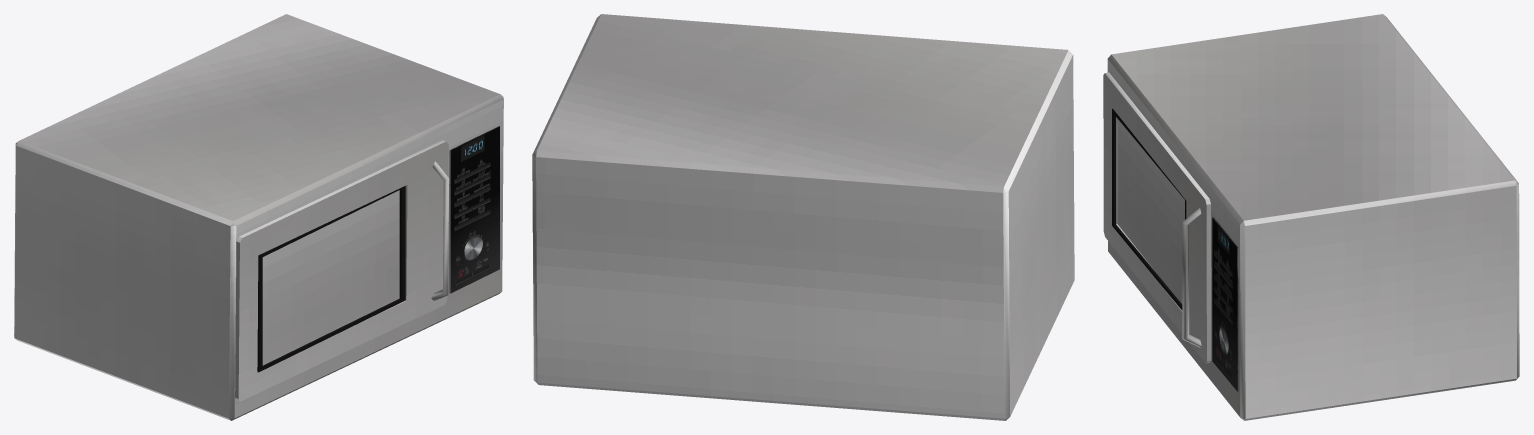
The model's file is Microondas.obj.
3 renders of one model, left to right at view 1: azimuth 30°, elevation 25°; view 2: azimuth 150°, elevation 25°; view 3: azimuth 270°, elevation 25°, orthographic. The views are drawn at different scales.
Parts seen in each view (by area): view 1: initialShadingGroupMesh7, pCube132, initialShadingGroup polySurface102; view 2: initialShadingGroupMesh7; view 3: initialShadingGroupMesh7, pCube132, initialShadingGroup polySurface102.
Boxes of the visible parts, x1,y1,x2,y2 form: initialShadingGroupMesh7: (14, 14, 503, 420); pCube132: (450, 126, 499, 293); initialShadingGroup polySurface102: (257, 186, 405, 372); initialShadingGroupMesh7: (532, 14, 1074, 420); initialShadingGroupMesh7: (1103, 14, 1519, 420); pCube132: (1212, 217, 1237, 390); initialShadingGroup polySurface102: (1112, 108, 1186, 310).
Bounding box in the file's own units: 0.807 × 0.3722 × 0.6858.
3 materials, 3 textured.
